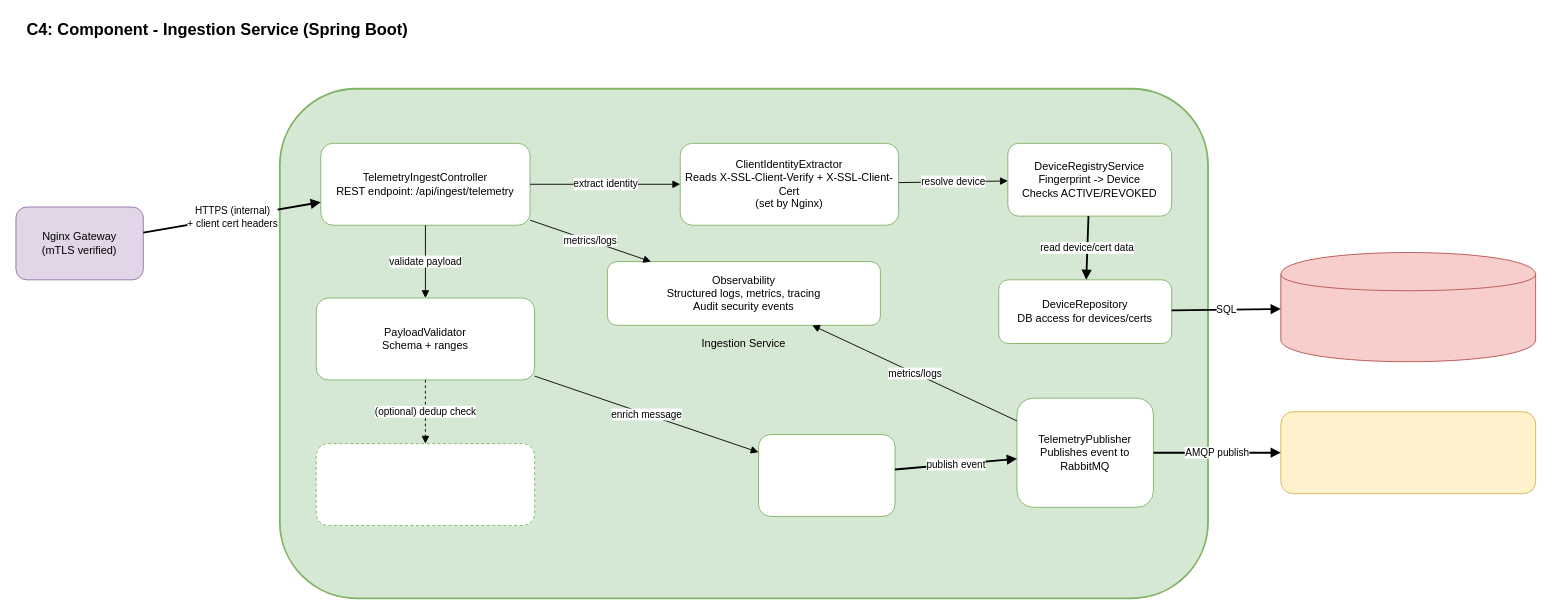
This 1552x614 diagram has some shape labels left out. The shapes that lost their labels are listed below. From the top down, each one's centre as x and y in pixels, then its label:
(x=1408, y=307): PostgreSQL device + certificates
(x=1408, y=452): RabbitMQ telemetry.temperature
(x=425, y=484): IdempotencyStore (optional) Detects duplicates (Redis / DB / in-memory)
(x=826, y=475): TelemetryEnricher Normalizes timestamps Resolves unit + sensor type
